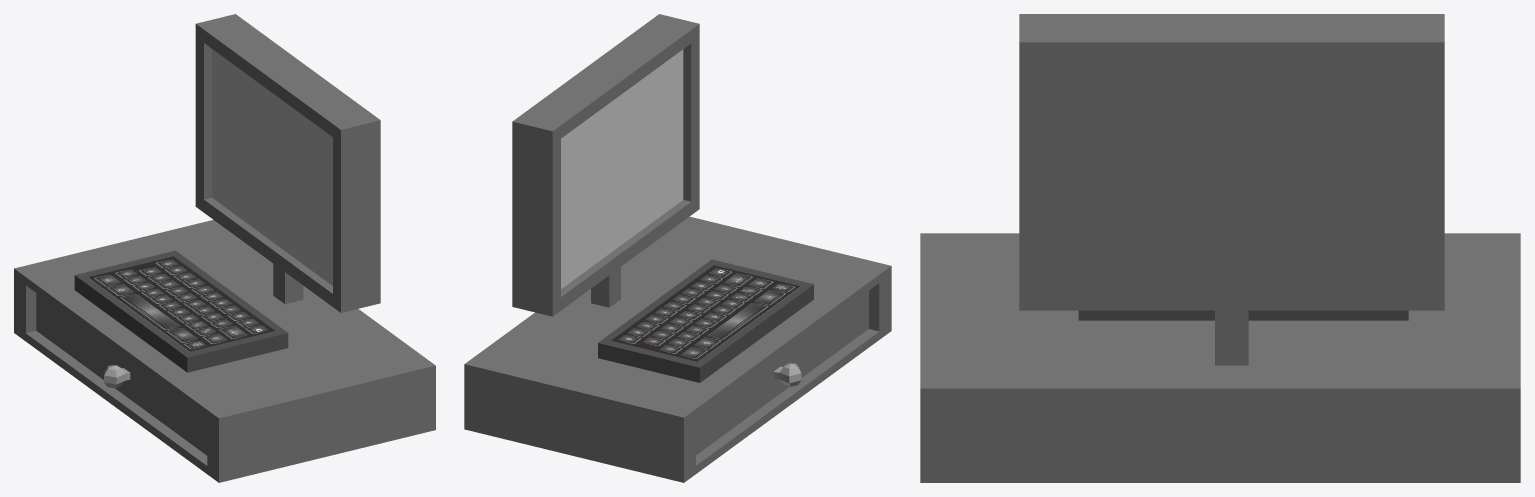
The model's file is Counter.fbx.
The picture shows the model from 3 angles, left to right: view 1: azimuth 30°, elevation 25°; view 2: azimuth 150°, elevation 25°; view 3: azimuth 270°, elevation 25°; orthographic projection. The views are drawn at different scales.
Parts seen in each view (by area): view 1: polySurface2; view 2: polySurface2; view 3: polySurface2.
Boxes of the visible parts, x1=… form: polySurface2: x1=14, y1=14, x2=435, y2=482; polySurface2: x1=464, y1=14, x2=891, y2=482; polySurface2: x1=920, y1=14, x2=1520, y2=482.
Bounding box in the file's own units: 147 × 178 × 227.
